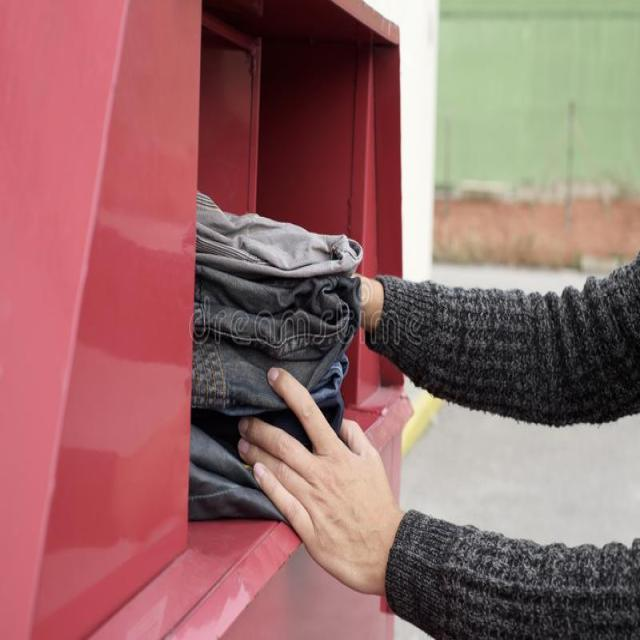clothes: (198, 194, 336, 543)
